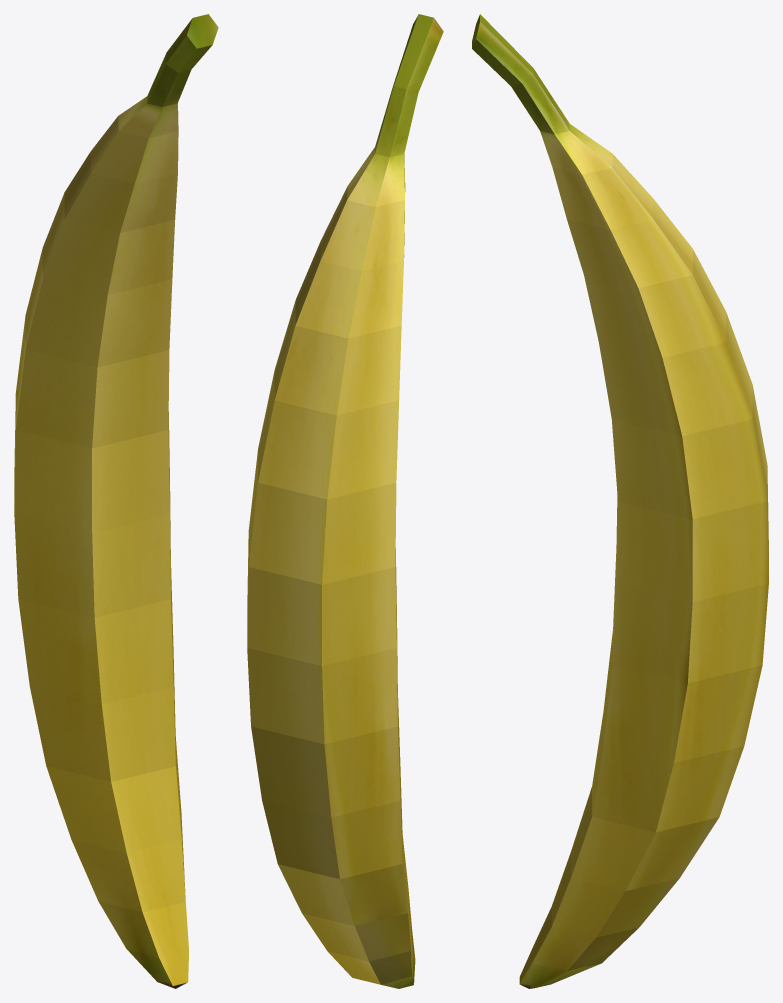
Rendered from banana.fbx.
The picture shows the model from 3 angles, left to right: view 1: azimuth 30°, elevation 25°; view 2: azimuth 150°, elevation 25°; view 3: azimuth 270°, elevation 25°; orthographic projection. The views are drawn at different scales.
Visible parts, largest first — view 1: banana; view 2: banana; view 3: banana.
Boxes of the visible parts, x1,y1,x2,y2 form: banana: (14, 14, 218, 988); banana: (247, 14, 443, 988); banana: (472, 14, 768, 988).
Bounding box in the file's own units: 200 × 1217 × 337.
